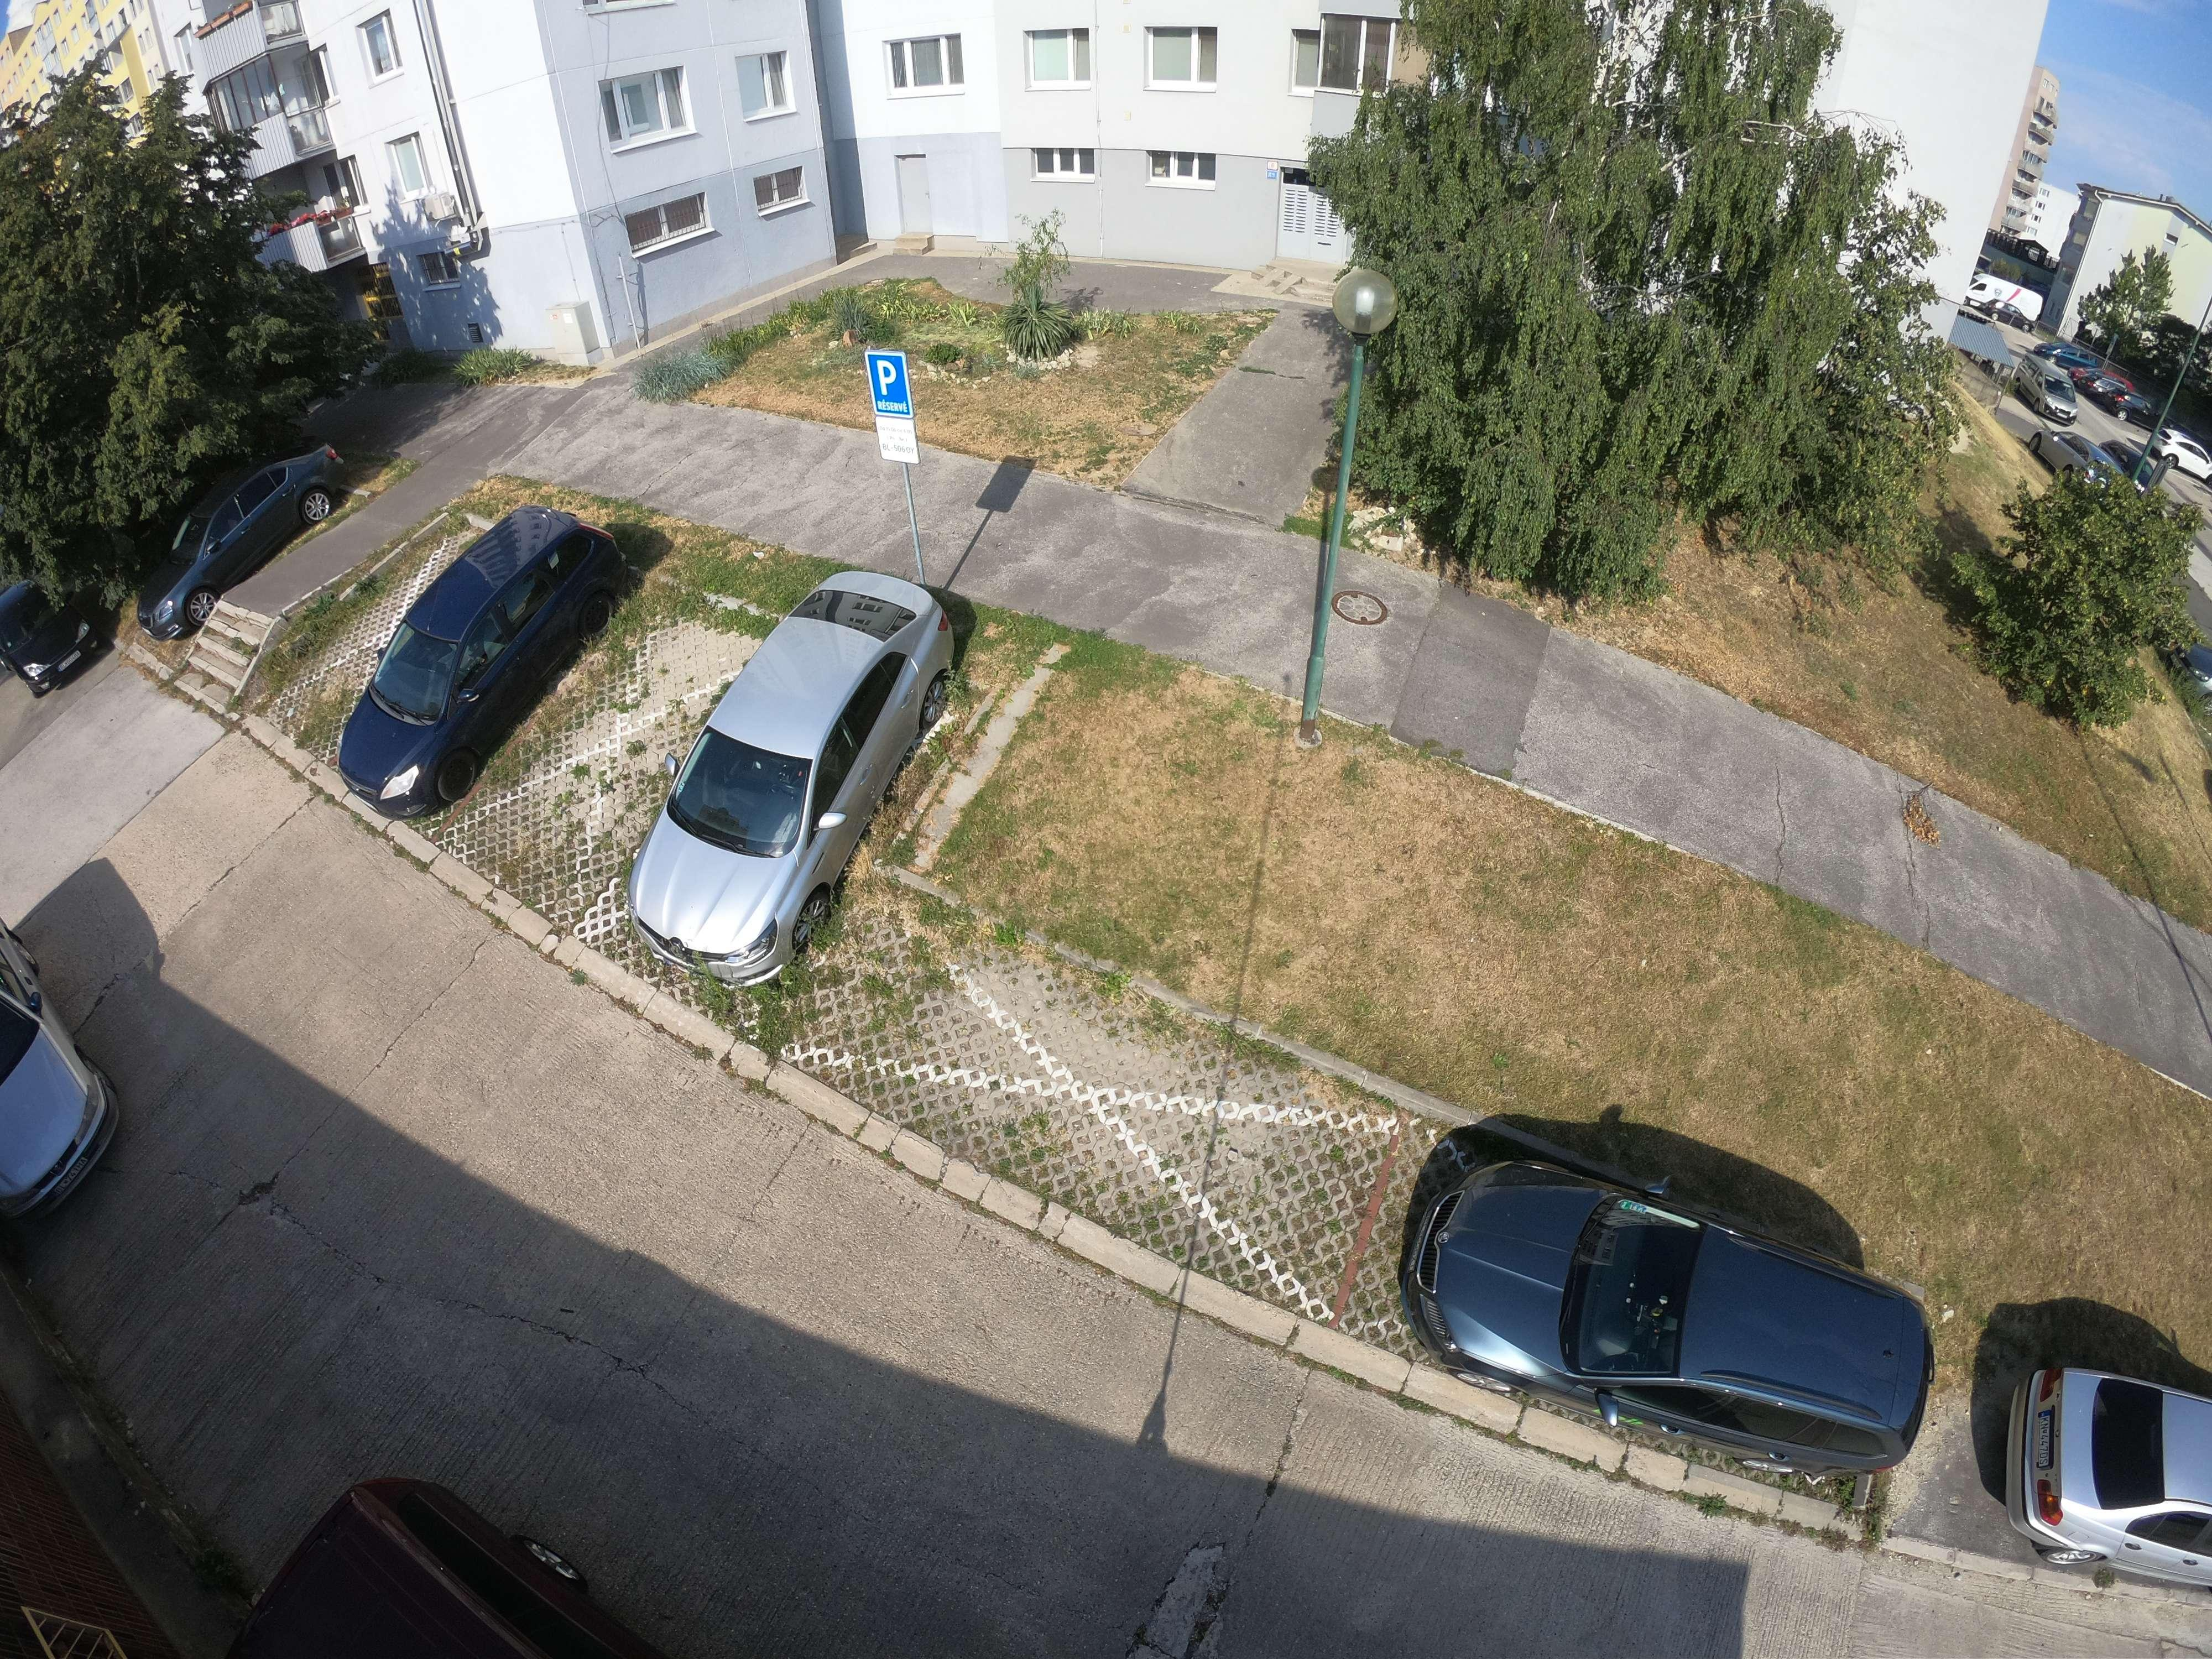empty: (1371, 1107, 1947, 1469), (601, 592, 935, 988), (333, 505, 622, 803), (1973, 1286, 2212, 1607), (5, 901, 117, 1218)
occupied: (900, 1016, 1254, 1234), (91, 1269, 324, 1509), (542, 640, 702, 852)
